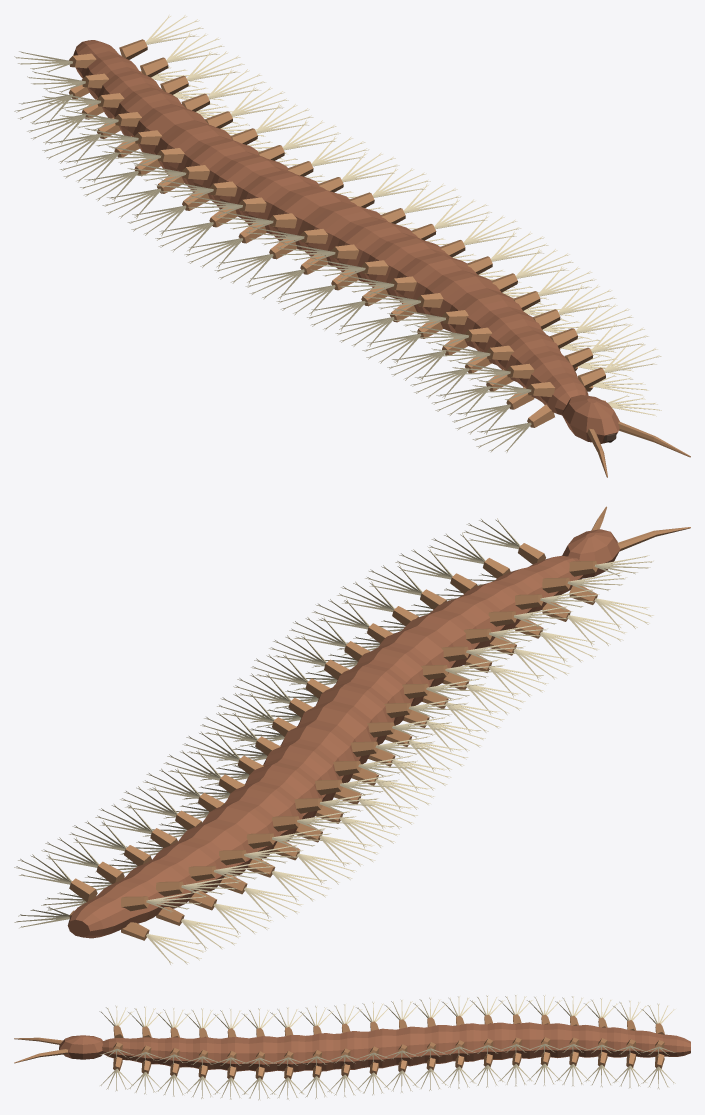
The picture shows the model from 3 angles, top to bottom: view 1: azimuth 30°, elevation 25°; view 2: azimuth 150°, elevation 25°; view 3: azimuth 270°, elevation 25°; orthographic projection. The views are drawn at different scales.
Visible parts, largest first — view 1: continuous_shallow_annulated_soft_trunk, lateral_five_simple_chaetae_per_ramus, uniform_equant_notopodial_lobes, uniform_equant_neuropodial_lobes, tiny_bifid_chaetal_tips, differentiated_head, exactly_two_smooth_anterior_palps; view 2: continuous_shallow_annulated_soft_trunk, lateral_five_simple_chaetae_per_ramus, uniform_equant_notopodial_lobes, uniform_equant_neuropodial_lobes, tiny_bifid_chaetal_tips, differentiated_head; view 3: continuous_shallow_annulated_soft_trunk, lateral_five_simple_chaetae_per_ramus, uniform_equant_notopodial_lobes, uniform_equant_neuropodial_lobes, tiny_bifid_chaetal_tips, differentiated_head, exactly_two_smooth_anterior_palps.
Boxes of the visible parts, box(x1,y1,x2,y2) form: continuous_shallow_annulated_soft_trunk: box(73, 40, 588, 415); lateral_five_simple_chaetae_per_ramus: box(20, 18, 655, 449); uniform_equant_notopodial_lobes: box(69, 39, 605, 396); uniform_equant_neuropodial_lobes: box(69, 71, 605, 427); tiny_bifid_chaetal_tips: box(14, 14, 661, 452); differentiated_head: box(562, 395, 619, 443); exactly_two_smooth_anterior_palps: box(587, 421, 690, 477); continuous_shallow_annulated_soft_trunk: box(67, 555, 583, 938); lateral_five_simple_chaetae_per_ramus: box(20, 522, 647, 960); uniform_equant_notopodial_lobes: box(69, 543, 597, 911); uniform_equant_neuropodial_lobes: box(69, 585, 597, 940); tiny_bifid_chaetal_tips: box(14, 518, 653, 964); differentiated_head: box(562, 529, 620, 578); continuous_shallow_annulated_soft_trunk: box(102, 1022, 690, 1072); lateral_five_simple_chaetae_per_ramus: box(102, 996, 673, 1098); uniform_equant_notopodial_lobes: box(113, 1014, 664, 1061); uniform_equant_neuropodial_lobes: box(113, 1051, 664, 1079); tiny_bifid_chaetal_tips: box(99, 995, 675, 1100); differentiated_head: box(59, 1035, 102, 1059); exactly_two_smooth_anterior_palps: box(14, 1037, 67, 1063).
Size of the model in its own units: 0.0138 by 0.00294 by 0.054.
